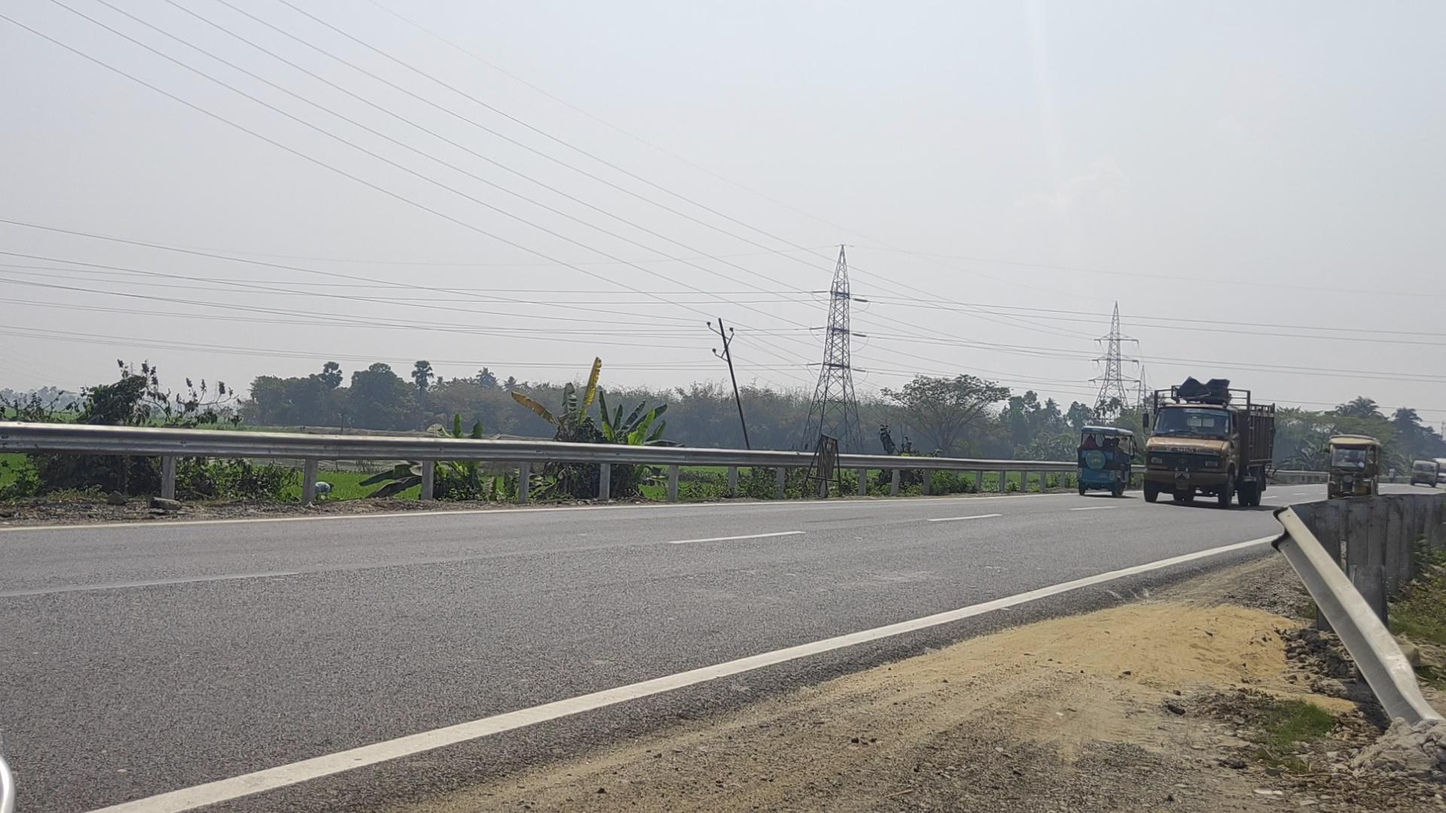Auto: (1076, 425, 1139, 498), (1325, 434, 1381, 504)
truck: (1142, 377, 1276, 509)
van: (1409, 458, 1440, 489)
